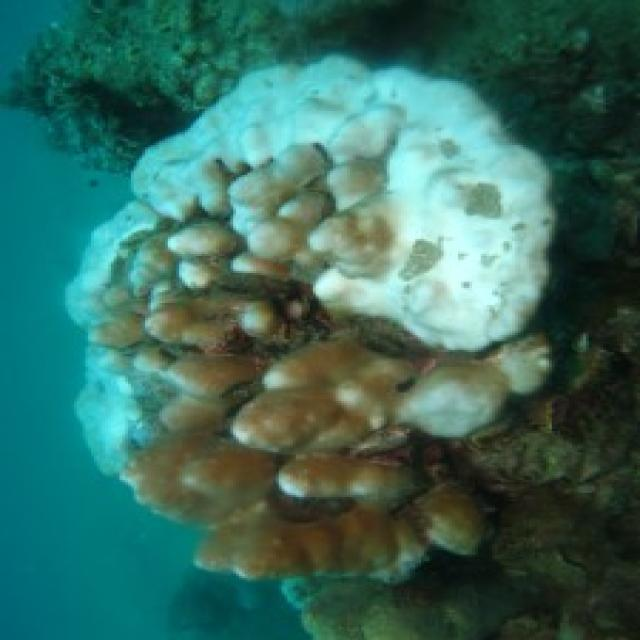Bleached: (132, 56, 550, 351), (66, 202, 157, 475)
Healthy: (86, 221, 473, 577)
